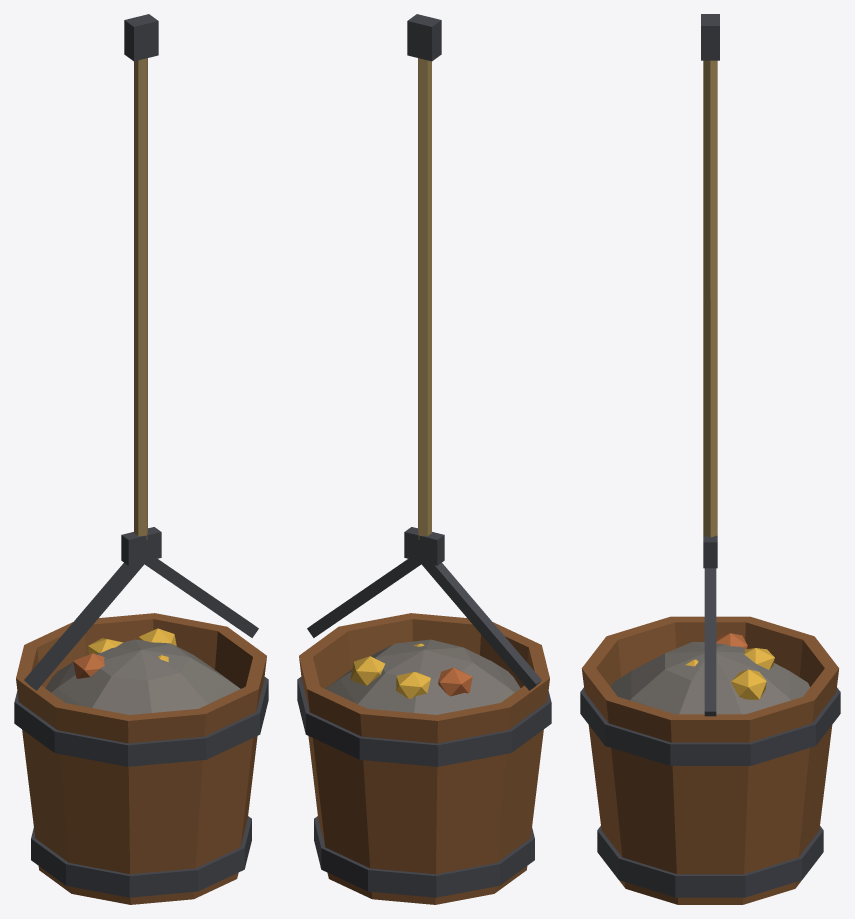
The model's file is mine_ore_bucket.glb.
The picture shows the model from 3 angles, left to right: view 1: azimuth 30°, elevation 25°; view 2: azimuth 150°, elevation 25°; view 3: azimuth 270°, elevation 25°; orthographic projection.
Parts seen in each view (by area): view 1: mine_ore_bucket; view 2: mine_ore_bucket; view 3: mine_ore_bucket.
Part boxes in pixels (<box>): mine_ore_bucket: <box>14,14,268,904</box>; mine_ore_bucket: <box>297,14,551,904</box>; mine_ore_bucket: <box>580,14,840,904</box>.
Size of what is drawn, in the model's own units: 0.5566 by 1.95 by 0.5462.
